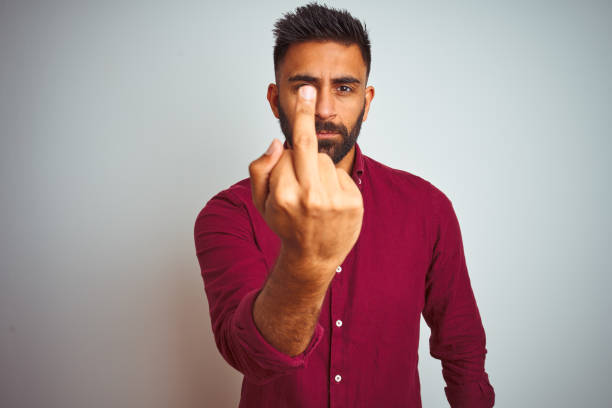insulting_gesture: (250, 83, 363, 268)
